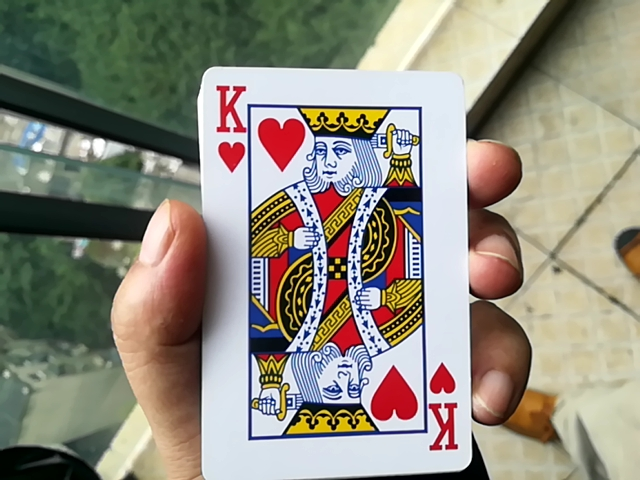hx k: (179, 55, 463, 478)
